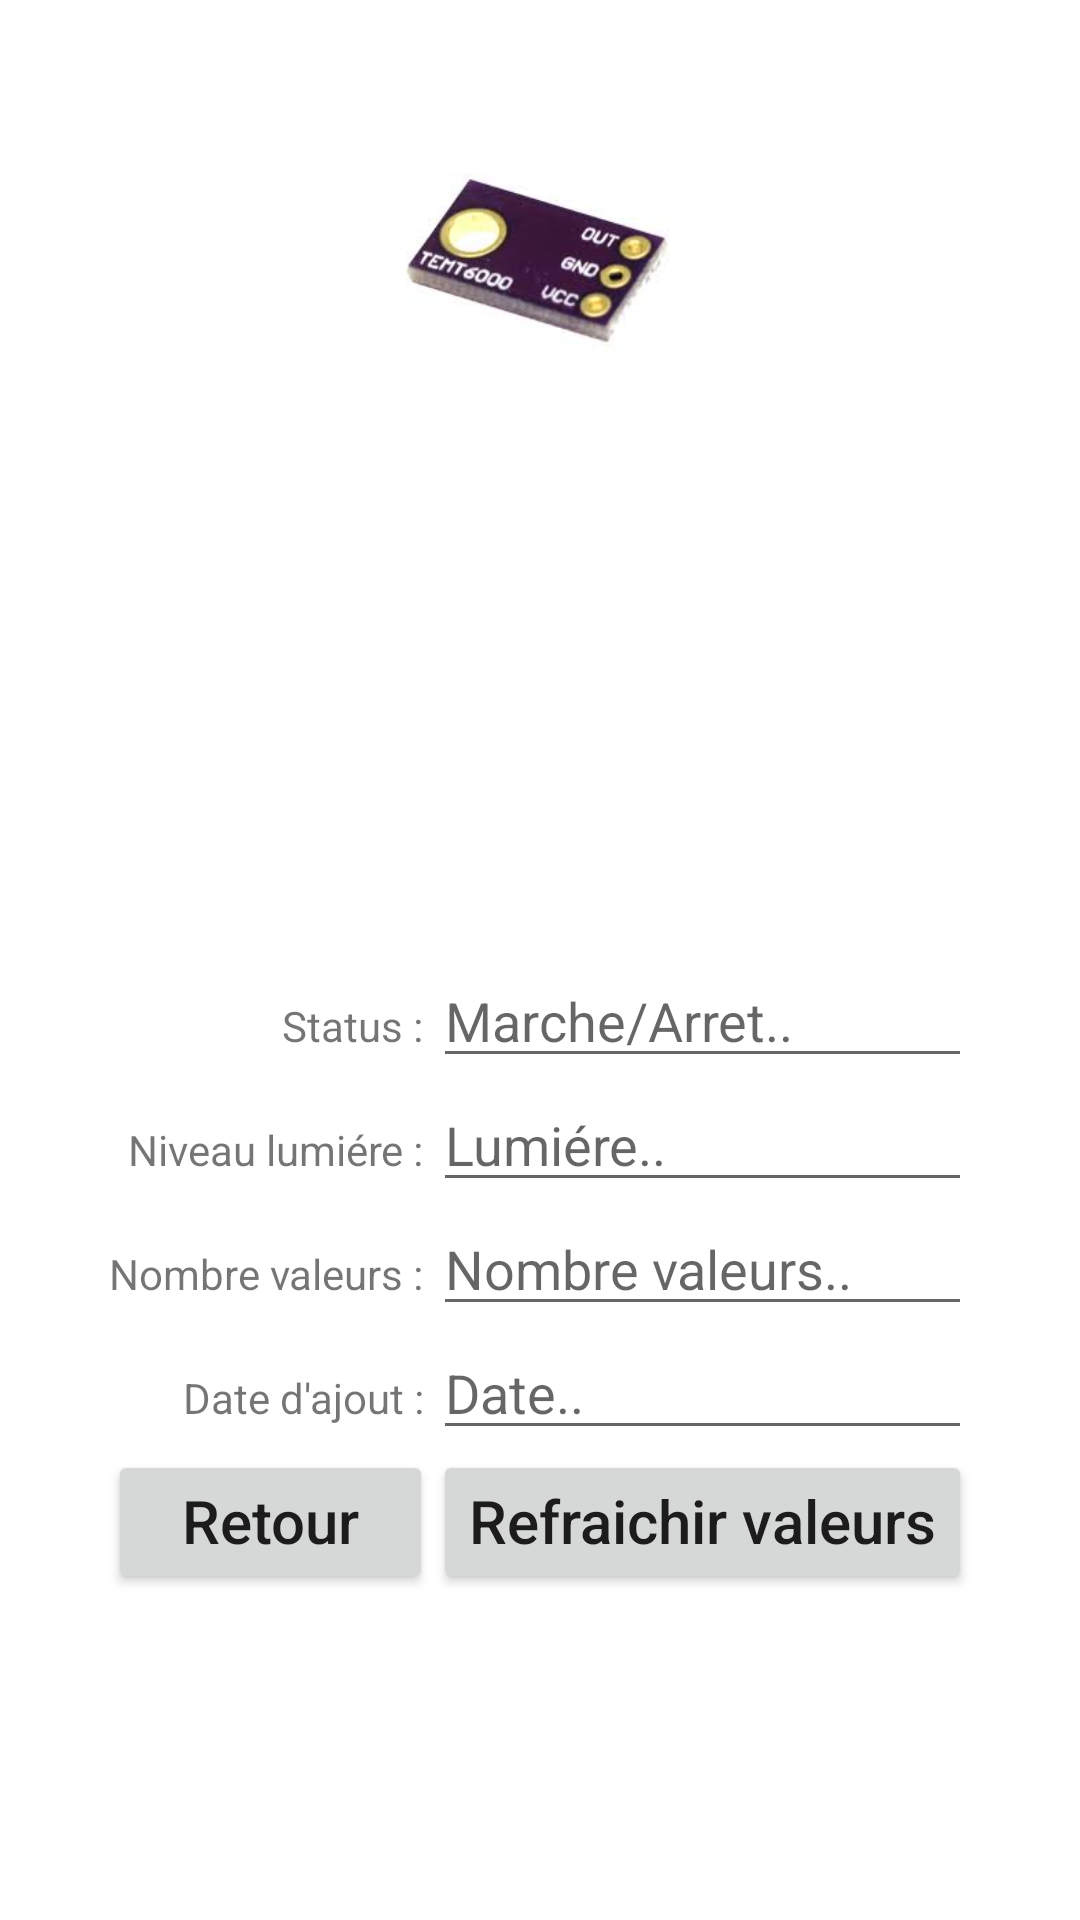

Locate icon controls on the screen. Image size 1080×1920, boxes as (x1, y1, x2, y2).
sensor: (407, 179, 667, 342)
